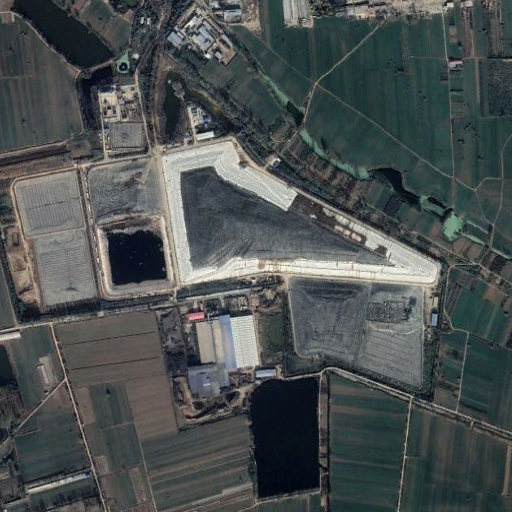lf: (164, 136, 441, 394)
